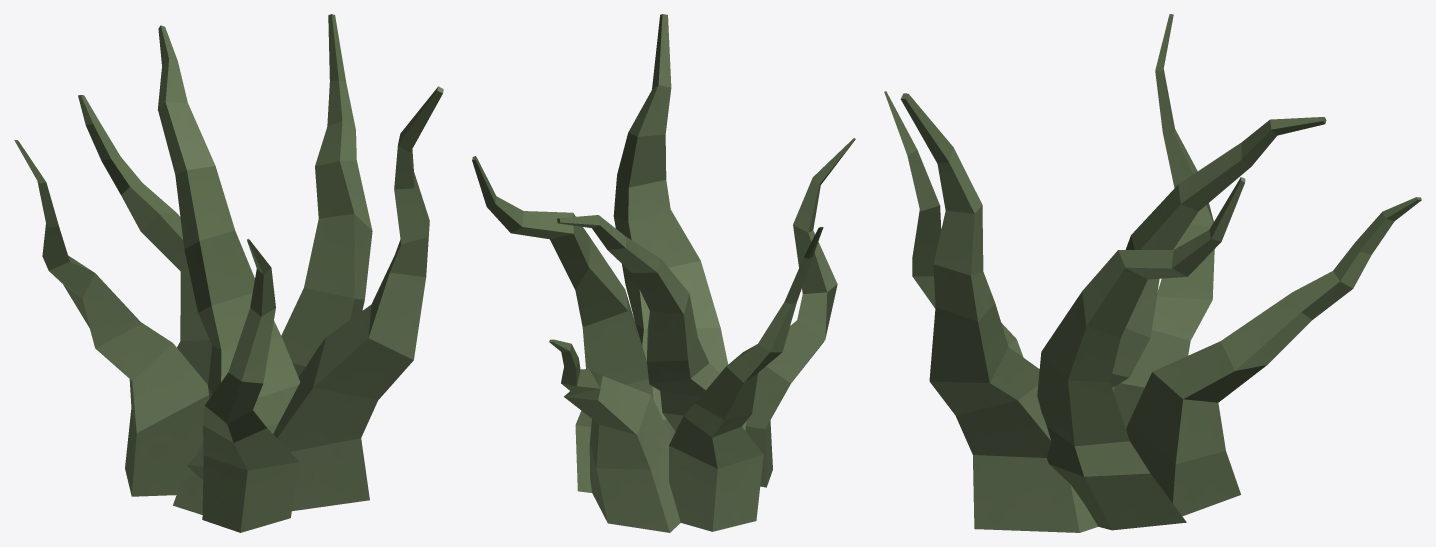
The model's file is grass_green_2.glb.
3 views of the same model, side by side, from view 1: azimuth 30°, elevation 25°; view 2: azimuth 150°, elevation 25°; view 3: azimuth 270°, elevation 25° (orthographic). The views are drawn at different scales.
Parts seen in each view (by area): view 1: grass_green_2; view 2: grass_green_2; view 3: grass_green_2.
Part boxes in pixels (bbox=[...]): grass_green_2: bbox=[14, 14, 443, 532]; grass_green_2: bbox=[472, 14, 855, 532]; grass_green_2: bbox=[884, 14, 1421, 532].
Size of the model in its own units: 0.1935 by 0.2279 by 0.2396.
Materials: 1 (1 with a texture image).
